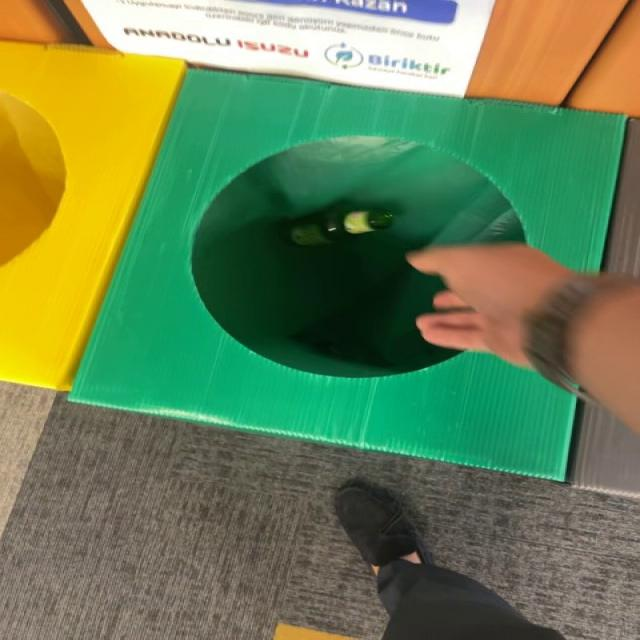glass: (283, 207, 395, 246)
